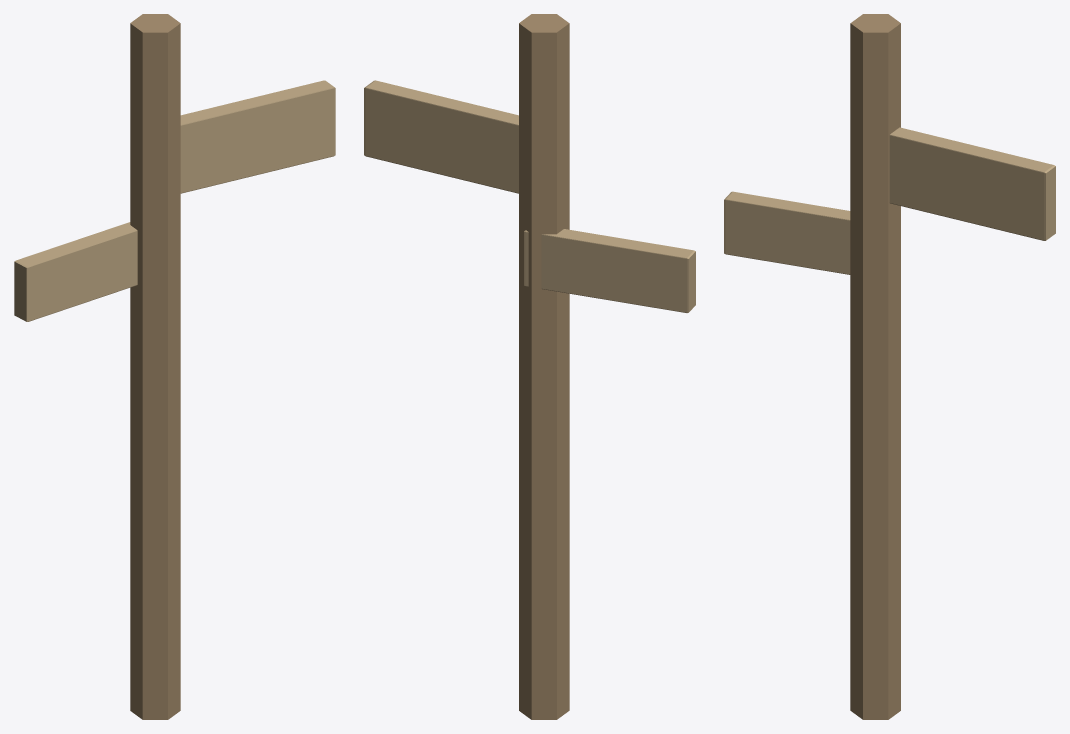
Rendered from signpost.glb.
The picture shows the model from 3 angles, left to right: view 1: azimuth 30°, elevation 25°; view 2: azimuth 150°, elevation 25°; view 3: azimuth 330°, elevation 25°; orthographic projection.
Visible parts, largest first — view 1: SignPost, SignBoard, SignBoard2; view 2: SignPost, SignBoard, SignBoard2; view 3: SignPost, SignBoard, SignBoard2.
Boxes of the visible parts, <box> form: SignPost: <box>130,14,180,719</box>; SignBoard: <box>180,80,335,193</box>; SignBoard2: <box>14,222,137,321</box>; SignPost: <box>519,14,569,719</box>; SignBoard: <box>364,80,518,193</box>; SignBoard2: <box>524,229,695,312</box>; SignPost: <box>850,14,900,719</box>; SignBoard: <box>889,127,1055,240</box>; SignBoard2: <box>724,191,850,274</box>.
Bounding box in the file's own units: 0.726 × 1.5 × 0.1.
